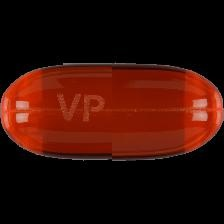61748-025: (0, 0, 224, 224)
